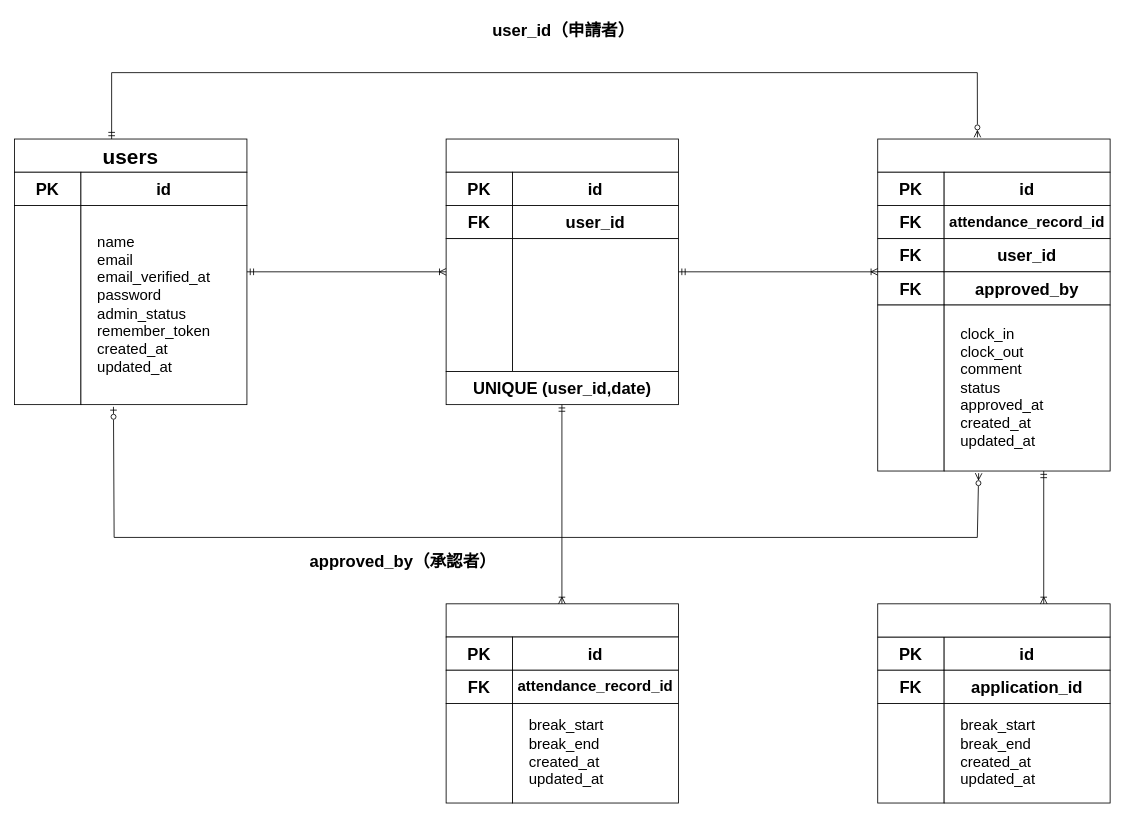
Some shapes in this 1125 by 818 pixel diagram are drawn without their labels. The centre of each missing label's shape, as x and y in pixels:
application_breaks: pixel 993 620
applications: pixel 993 155
attendance_records: pixel 562 155
breaks: pixel 562 620
date clock_in clock_out comment created_at updated_at: pixel 595 304
